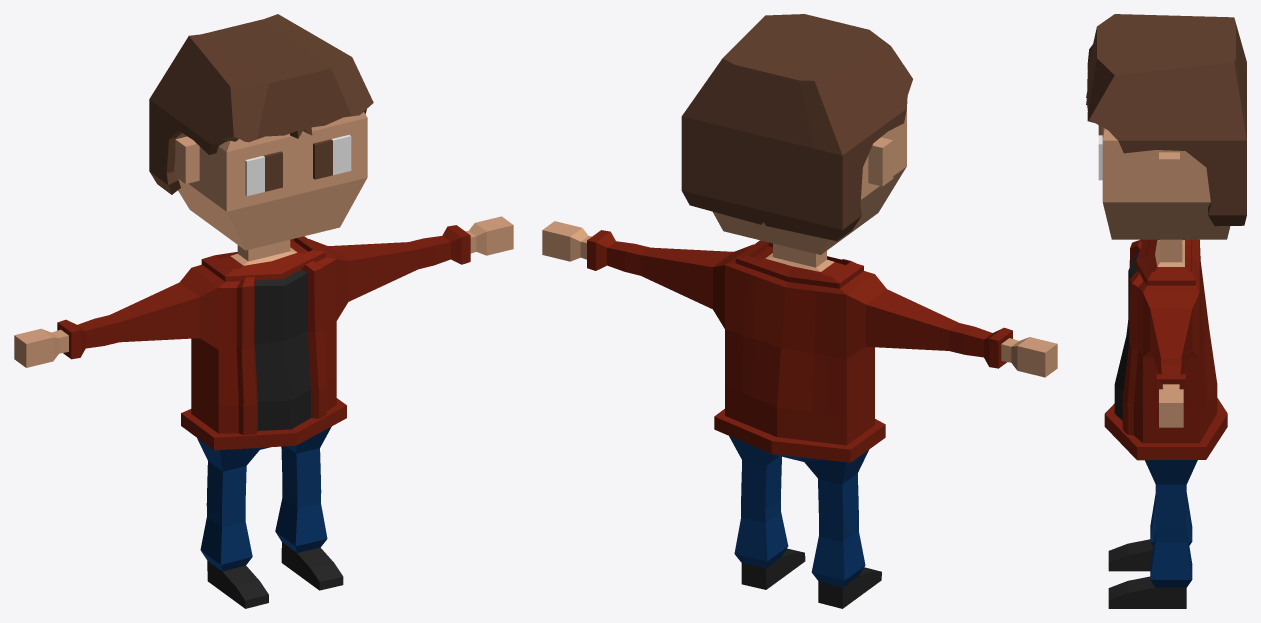
Rendered from LowPolyCharacter.obj.
3 renders of one model, left to right at view 1: azimuth 30°, elevation 25°; view 2: azimuth 150°, elevation 25°; view 3: azimuth 270°, elevation 25°, orthographic. The views are drawn at different scales.
Visible parts, largest first — view 1: Guy, Hair; view 2: Guy, Hair; view 3: Guy, Hair.
Part boxes in pixels (<box>): Guy: <box>14,112,513,608</box>; Hair: <box>149,14,373,194</box>; Guy: <box>542,109,1057,608</box>; Hair: <box>681,14,912,241</box>; Guy: <box>1098,125,1230,608</box>; Hair: <box>1086,14,1246,226</box>.
Size of the model in its own units: 1.82 by 1.88 by 0.5034.
